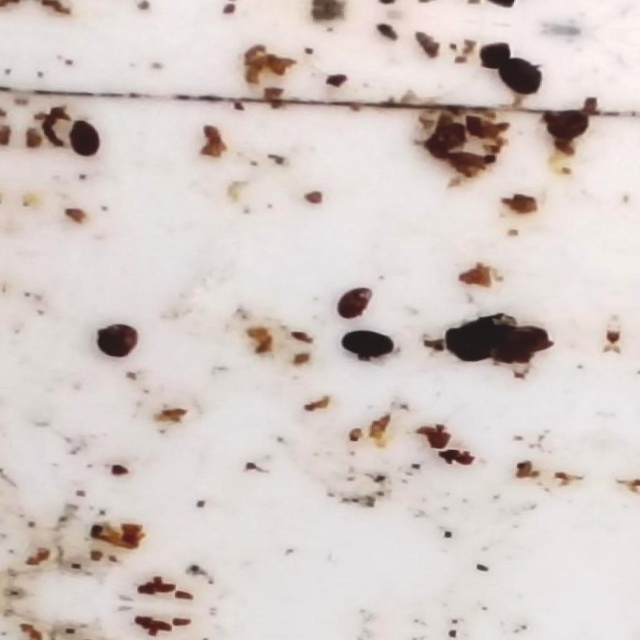varroa: (338, 326, 397, 364), (498, 55, 545, 100), (94, 318, 142, 362), (64, 115, 108, 162), (543, 103, 589, 147), (336, 285, 376, 322), (476, 42, 512, 75)
